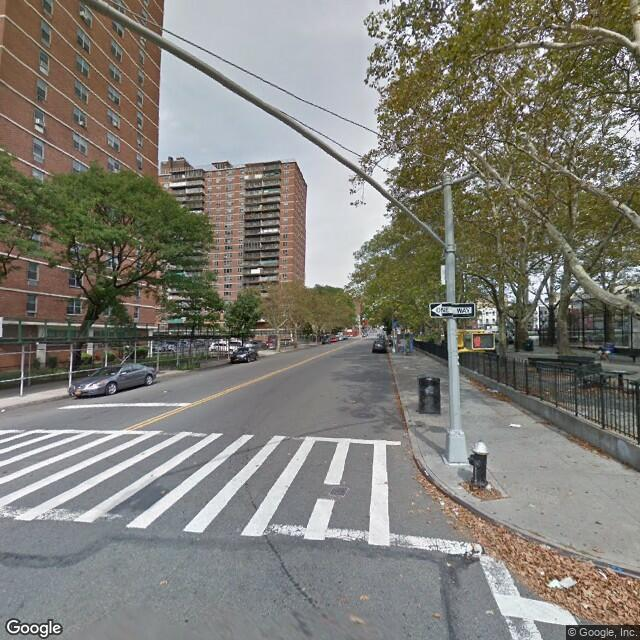litter: (544, 571, 583, 598), (505, 420, 523, 431), (484, 384, 501, 394), (482, 483, 495, 491), (436, 498, 452, 504), (1, 408, 7, 415)
